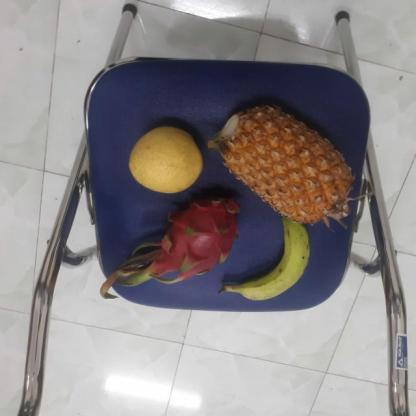banana: (228, 218, 315, 302)
pear: (127, 123, 208, 191)
pineapple: (212, 106, 355, 226)
pitaya: (150, 192, 244, 281)
